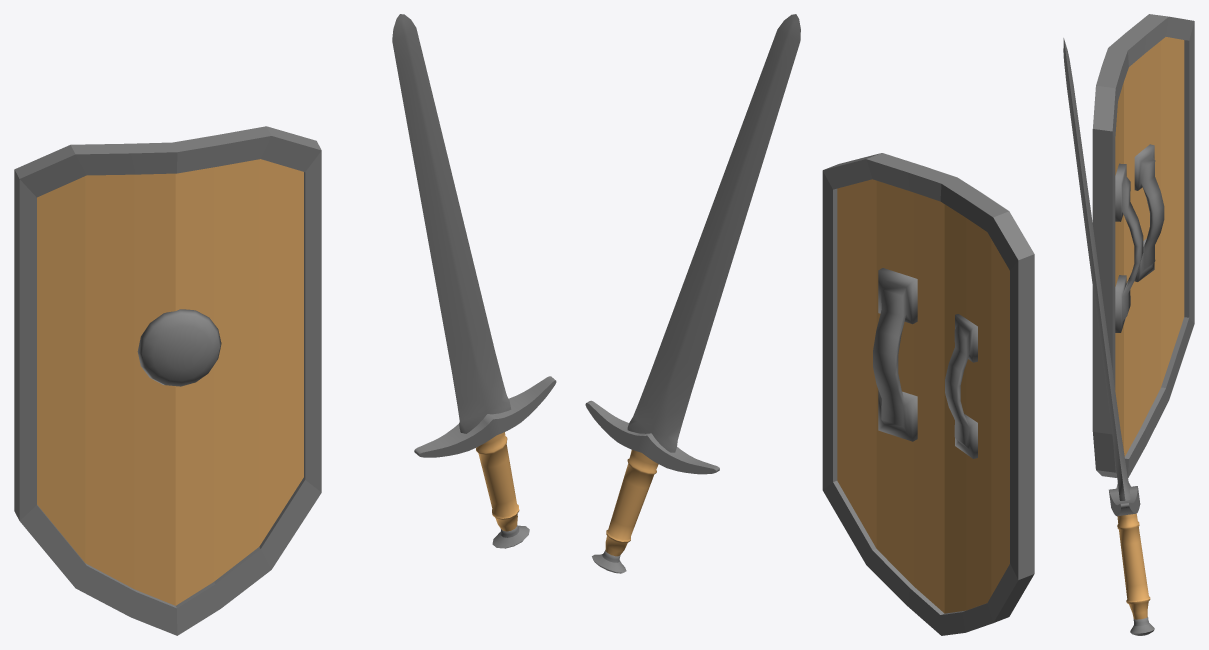
The picture shows the model from 3 angles, left to right: view 1: azimuth 30°, elevation 25°; view 2: azimuth 150°, elevation 25°; view 3: azimuth 270°, elevation 25°; orthographic projection. The views are drawn at different scales.
Visible parts, largest first — view 1: Shield, _Sword; view 2: Shield, _Sword; view 3: Shield, _Sword.
Boxes of the visible parts, x1,y1,x2,y2 form: Shield: [14, 126, 321, 635]; _Sword: [392, 14, 556, 548]; Shield: [822, 153, 1034, 635]; _Sword: [585, 14, 800, 573]; Shield: [1092, 14, 1194, 477]; _Sword: [1063, 38, 1154, 635].
Size of the model in its own units: 463 by 525 by 117.
